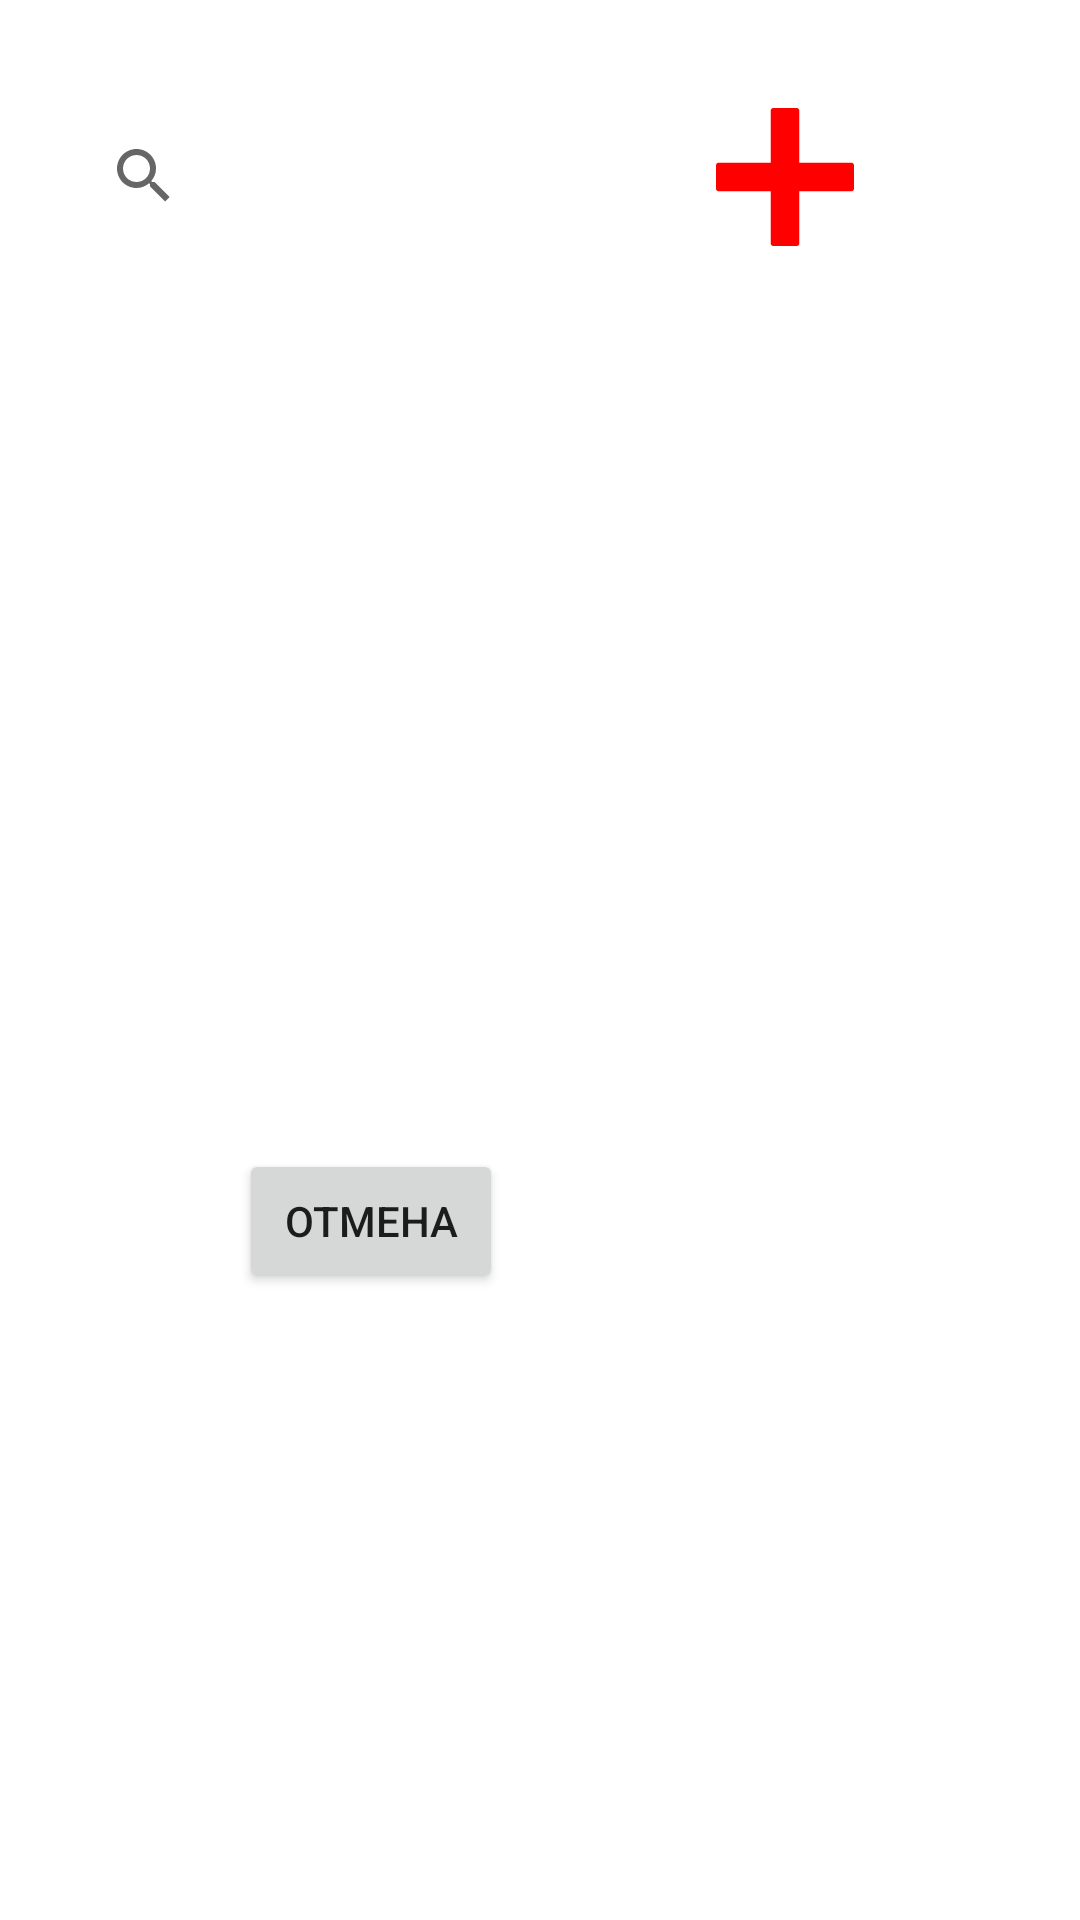

Where icons sit on this 1080w x 1920h app screen, as (x1, y1, x2, y2):
plus: (716, 108, 854, 246)
